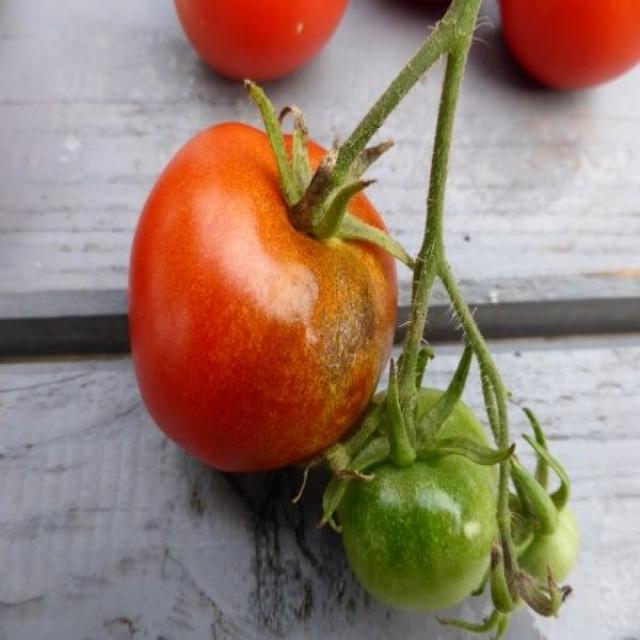level 1: (339, 386, 508, 614)
level 2: (494, 504, 581, 593)
level 5: (128, 117, 398, 475)
level 6: (173, 0, 353, 83), (497, 0, 640, 98)
